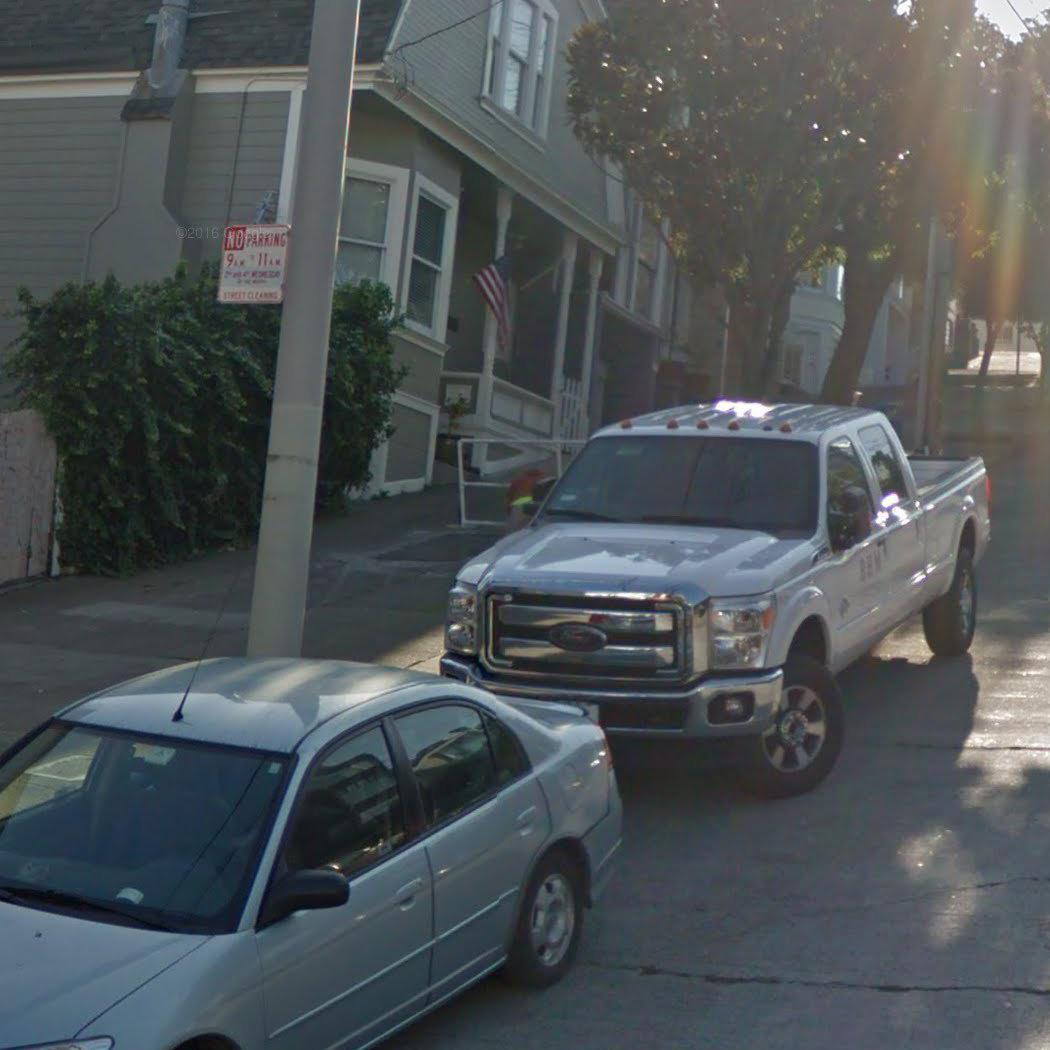No Parking: (212, 221, 294, 307)
